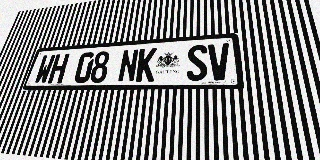0: (73, 52, 96, 83)
8: (89, 51, 111, 83)
H: (47, 53, 70, 84)
K: (135, 48, 157, 82)
N: (117, 49, 139, 82)
S: (187, 44, 208, 81)
V: (208, 43, 231, 81)
W: (33, 54, 56, 84)
